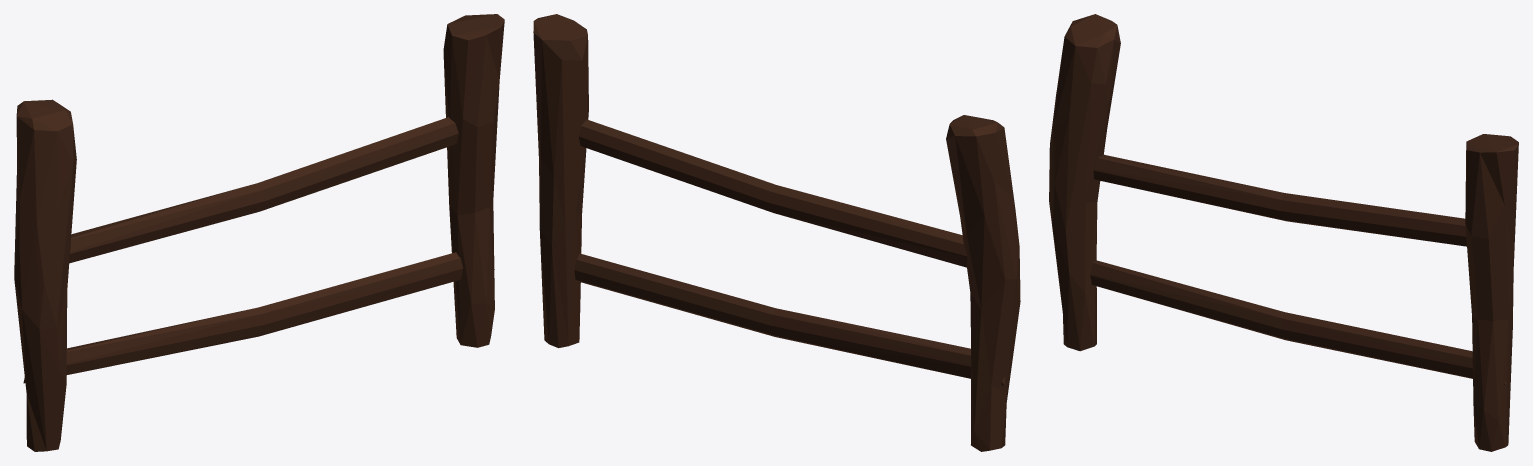
The model's file is fence3.obj.
3 views of the same model, side by side, from view 1: azimuth 30°, elevation 25°; view 2: azimuth 150°, elevation 25°; view 3: azimuth 330°, elevation 25° (orthographic). The views are drawn at different scales.
Parts seen in each view (by area): view 1: Fence1_Cylinder.016; view 2: Fence1_Cylinder.016; view 3: Fence1_Cylinder.016.
Part boxes in pixels (left/top/right/bottom): Fence1_Cylinder.016: left=14, top=14, right=504, bottom=451; Fence1_Cylinder.016: left=533, top=14, right=1020, bottom=451; Fence1_Cylinder.016: left=1049, top=14, right=1518, bottom=451.
Bounding box in the file's own units: 4.24 × 2.77 × 0.5422.
